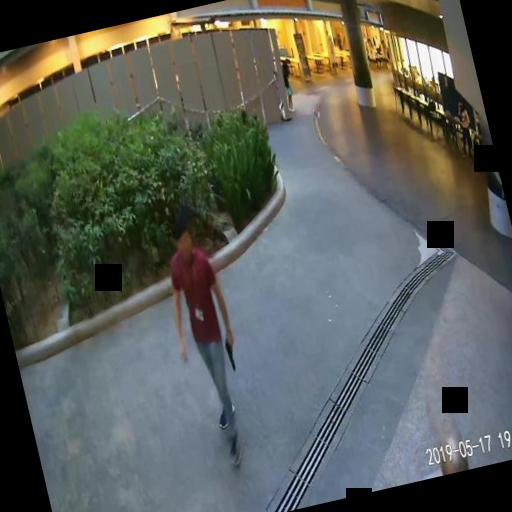Handgun: (220, 334, 239, 372)
